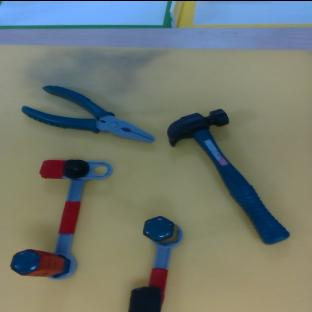non_pass: (121, 212, 186, 312)
pass: (3, 141, 114, 291)
